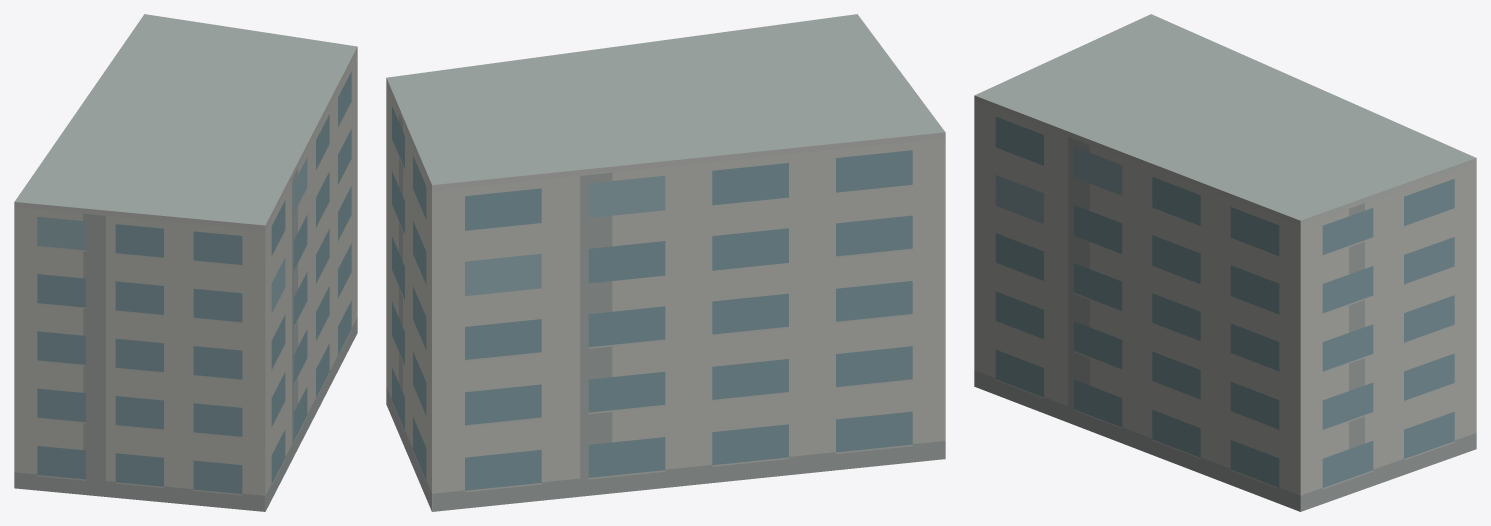
The model's file is survey-upis-32816338.glb.
3 views of the same model, side by side, from view 1: azimuth 30°, elevation 25°; view 2: azimuth 150°, elevation 25°; view 3: azimuth 270°, elevation 25° (orthographic). The views are drawn at different scales.
Visible parts, largest first — view 1: survey-upis-32816338.tmp; view 2: survey-upis-32816338.tmp; view 3: survey-upis-32816338.tmp.
Boxes of the visible parts, x1,y1,x2,y2 form: survey-upis-32816338.tmp: [14, 14, 357, 511]; survey-upis-32816338.tmp: [386, 14, 945, 511]; survey-upis-32816338.tmp: [974, 14, 1476, 511].
Bounding box in the file's own units: 19.95 × 13.1 × 20.48.
